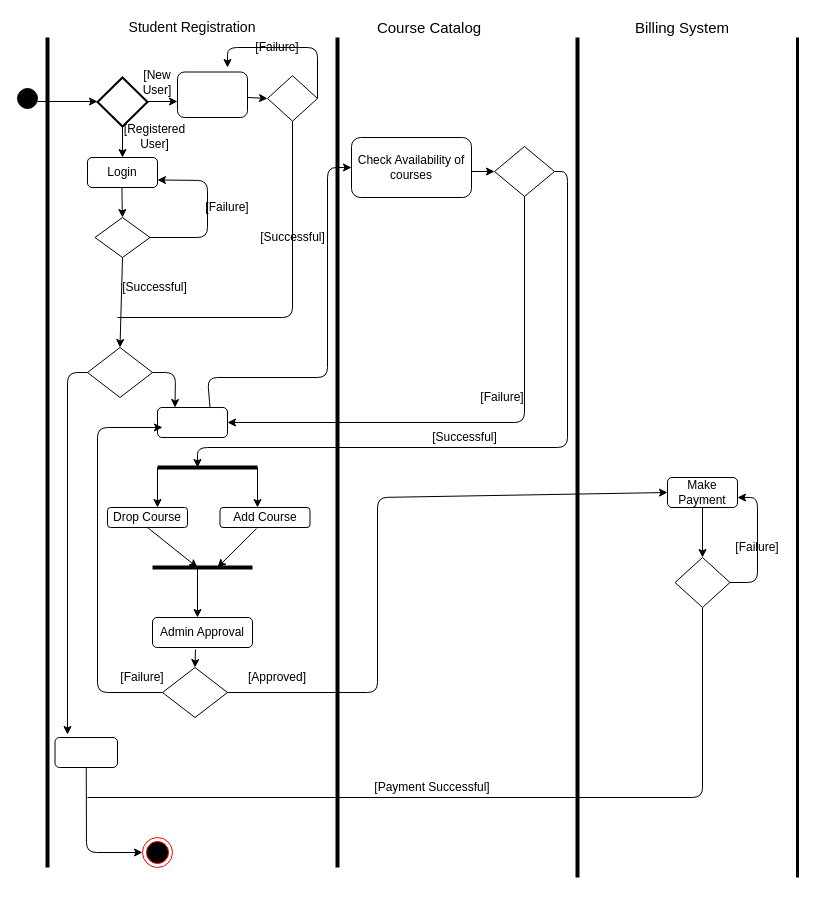
Image size: 817x897. Some labels were removed from this diagram. Here are the shapes that lost their labels. From the top down, the centre of each, then its label:
At point (212, 94): "Registration".
At point (192, 422): "Register for course".
At point (86, 752): "View Grades".
